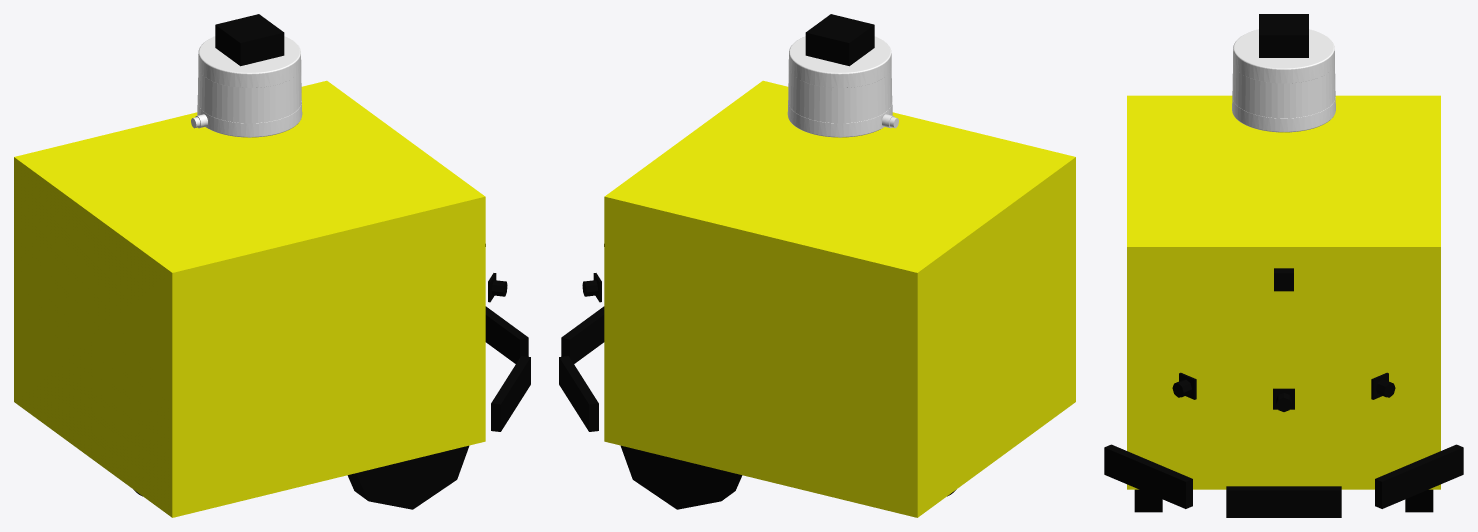
File: plato.dae
3 renders of one model, left to right at view 1: azimuth 30°, elevation 25°; view 2: azimuth 150°, elevation 25°; view 3: azimuth 270°, elevation 25°, orthographic.
Parts seen in each view (by area): view 1: chassis, velodyne_base_link (×2), right_wheel, velodyne, camera, right_bumper, center_bumper; view 2: chassis, velodyne_base_link (×2), left_wheel, velodyne, camera, left_bumper, center_bumper; view 3: chassis, velodyne_base_link (×2), center_bumper, velodyne, left_bumper, right_bumper, camera, left_wheel, right_wheel, center_sonar_link, left_sonar_link, right_sonar_link (+1 smaller).
Boxes of the visible parts, left/top/right/bottom form: chassis: left=14, top=80, right=485, bottom=517; velodyne_base_link (×2): left=191, top=36, right=302, bottom=137; right_wheel: left=347, top=445, right=469, bottom=509; velodyne: left=197, top=67, right=301, bottom=123; camera: left=215, top=14, right=284, bottom=66; right_bumper: left=491, top=356, right=530, bottom=431; center_bumper: left=485, top=306, right=528, bottom=363; chassis: left=604, top=80, right=1075, bottom=517; velodyne_base_link (×2): left=787, top=36, right=898, bottom=137; left_wheel: left=620, top=445, right=742, bottom=509; velodyne: left=788, top=67, right=892, bottom=123; camera: left=805, top=14, right=874, bottom=66; left_bumper: left=559, top=356, right=598, bottom=431; center_bumper: left=561, top=306, right=604, bottom=363; chassis: left=1127, top=95, right=1440, bottom=489; velodyne_base_link (×2): left=1232, top=29, right=1335, bottom=132; center_bumper: left=1226, top=486, right=1341, bottom=517; velodyne: left=1232, top=63, right=1335, bottom=118; left_bumper: left=1375, top=444, right=1463, bottom=508; right_bumper: left=1104, top=444, right=1192, bottom=508; camera: left=1259, top=14, right=1308, bottom=57; left_wheel: left=1405, top=489, right=1433, bottom=512; right_wheel: left=1134, top=489, right=1162, bottom=512; center_sonar_link: left=1273, top=388, right=1294, bottom=411; left_sonar_link: left=1172, top=372, right=1196, bottom=399; right_sonar_link: left=1371, top=372, right=1395, bottom=399.
Size of the model in its own units: 0.4635 by 0.3584 by 0.4875.
